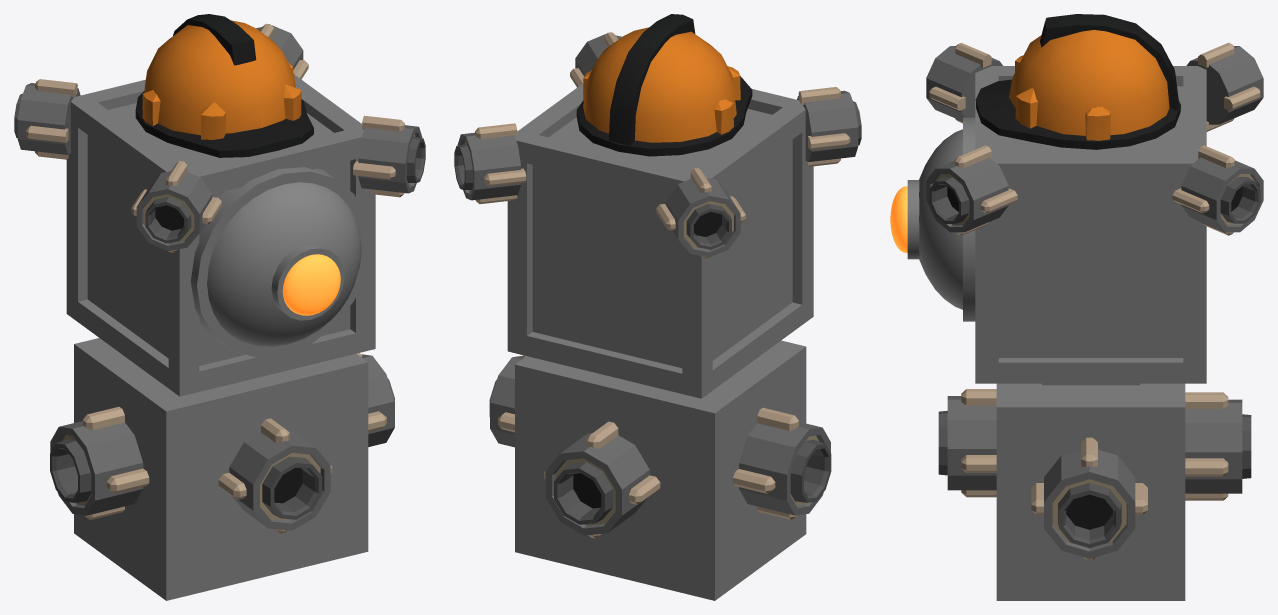
File: ManBox.fbx
3 views of the same model, side by side, from view 1: azimuth 30°, elevation 25°; view 2: azimuth 150°, elevation 25°; view 3: azimuth 270°, elevation 25° (orthographic). The views are drawn at different scales.
Parts seen in each view (by area): view 1: Cube__1_, TBC_Hard_hat, Sphere, Cube__22_, AttatchPointModel__5_, AttatchPointModel__7_, Cylinder__1_, AttatchPointModel__4_, AttatchPointModel__2_, Cube__17_, AttatchPointModel__6_, Cube__11_ (+11 smaller); view 2: Cube__1_, Cube__22_, TBC_Hard_hat, AttatchPointModel__3_, AttatchPointModel__7_, AttatchPointModel__6_, Cube__16_, AttatchPointModel, Cube__14_, AttatchPointModel__4_, Cube__12_, Cube__10_ (+7 smaller); view 3: Cube__22_, Cube__1_, TBC_Hard_hat, AttatchPointModel__1_, AttatchPointModel__3_, AttatchPointModel__5_, Cube__21_, Cube__19_, AttatchPointModel__2_, AttatchPointModel, Sphere, AttatchPointModel__6_ (+9 smaller).
Part boxes in pixels (x1=…): Cube__1_: x1=74, y1=338, x2=368, y2=600; TBC_Hard_hat: x1=135, y1=14, x2=313, y2=157; Sphere: x1=207, y1=182, x2=361, y2=346; Cube__22_: x1=87, y1=103, x2=350, y2=365; AttatchPointModel__5_: x1=218, y1=418, x2=332, y2=533; AttatchPointModel__7_: x1=50, y1=406, x2=149, y2=520; Cylinder__1_: x1=190, y1=167, x2=370, y2=357; AttatchPointModel__4_: x1=131, y1=161, x2=221, y2=252; AttatchPointModel__2_: x1=353, y1=115, x2=425, y2=197; Cube__17_: x1=187, y1=126, x2=363, y2=193; AttatchPointModel__6_: x1=14, y1=79, x2=80, y2=159; Cube__11_: x1=168, y1=169, x2=199, y2=385; Cube__1_: x1=515, y1=340, x2=806, y2=600; Cube__22_: x1=532, y1=109, x2=792, y2=368; TBC_Hard_hat: x1=576, y1=14, x2=752, y2=156; AttatchPointModel__3_: x1=544, y1=421, x2=660, y2=538; AttatchPointModel__7_: x1=733, y1=407, x2=831, y2=519; AttatchPointModel__6_: x1=656, y1=168, x2=745, y2=258; Cube__16_: x1=515, y1=130, x2=712, y2=197; AttatchPointModel: x1=454, y1=123, x2=526, y2=204; Cube__14_: x1=527, y1=332, x2=682, y2=393; AttatchPointModel__4_: x1=797, y1=87, x2=861, y2=166; Cube__12_: x1=507, y1=134, x2=532, y2=335; Cube__10_: x1=682, y1=179, x2=712, y2=387; Cube__22_: x1=998, y1=86, x2=1183, y2=357; Cube__1_: x1=996, y1=383, x2=1185, y2=600; TBC_Hard_hat: x1=975, y1=14, x2=1181, y2=149; AttatchPointModel__1_: x1=1031, y1=437, x2=1147, y2=560; AttatchPointModel__3_: x1=1185, y1=392, x2=1251, y2=500; AttatchPointModel__5_: x1=938, y1=389, x2=996, y2=497; Cube__21_: x1=991, y1=154, x2=1198, y2=184; Cube__19_: x1=975, y1=358, x2=1206, y2=383; AttatchPointModel__2_: x1=926, y1=145, x2=1017, y2=235; AttatchPointModel: x1=1172, y1=145, x2=1263, y2=235; Sphere: x1=919, y1=129, x2=962, y2=309; AttatchPointModel__6_: x1=1186, y1=42, x2=1263, y2=131.
Bounding box in the file's own units: 161 × 254 × 162.
Materials: 8 (1 with a texture image).
